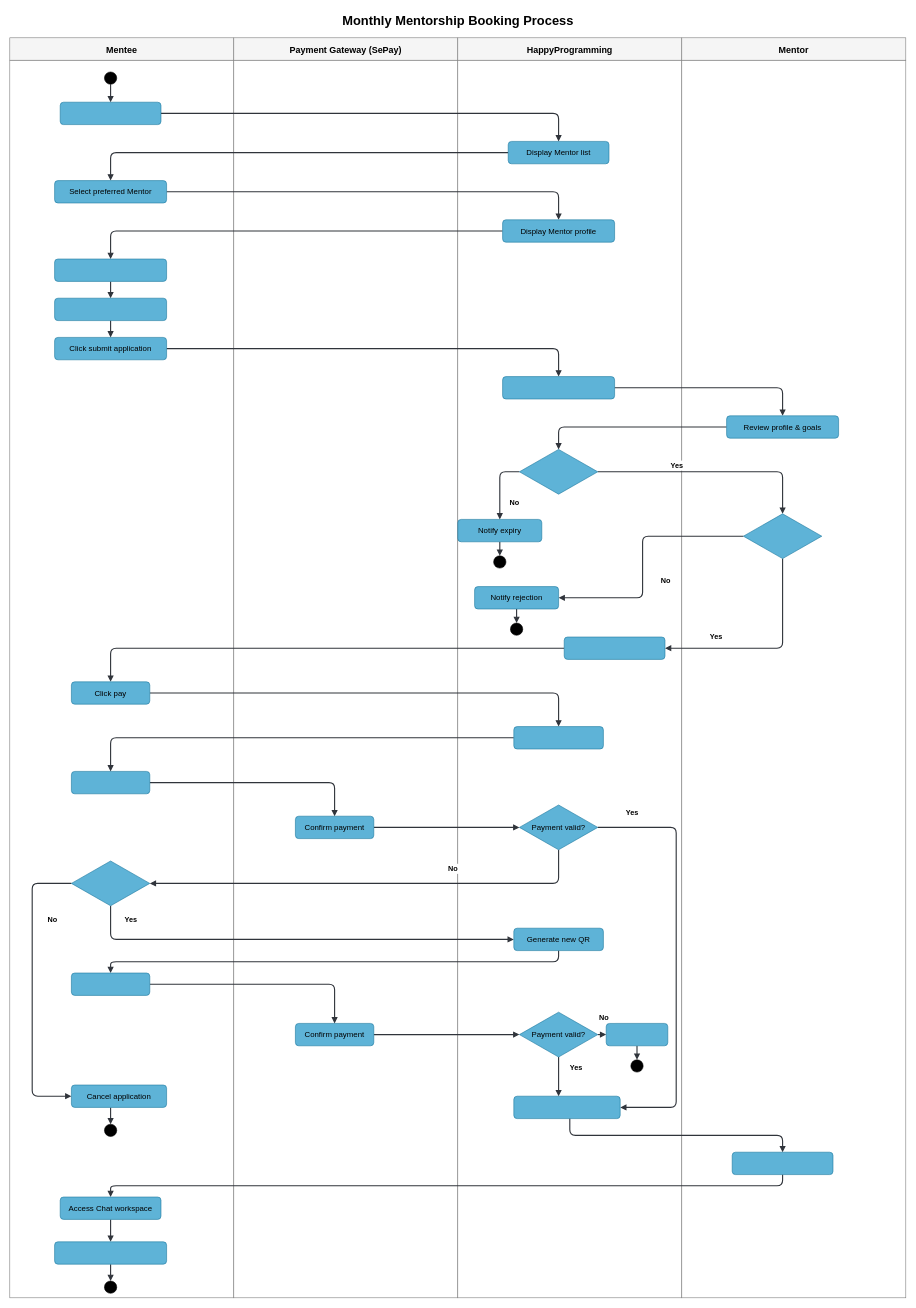
The diagram is 916 pixels wide and 1308 high, and some of its shapes have lost their labels. Here are the shapes that lost their labels. From the top down, the box of each, then its label:
(60, 102, 161, 125): Select target skill
(54, 258, 167, 281): Select service package
(54, 298, 167, 321): Input goals & requirements
(502, 376, 615, 399): Forward application
(519, 449, 598, 494): Respond in 48h?
(743, 513, 822, 559): Accept Mentee?
(564, 636, 665, 659): Send payment info
(513, 726, 603, 749): Display SePay QR
(71, 771, 150, 794): Scan QR code
(71, 860, 150, 906): Pay again?
(71, 972, 150, 995): Scan new QR
(606, 1023, 668, 1046): Payment failed
(513, 1096, 620, 1119): Hold funds & open workspace
(732, 1152, 833, 1175): Send meeting link
(54, 1241, 167, 1264): Start mentorship session
